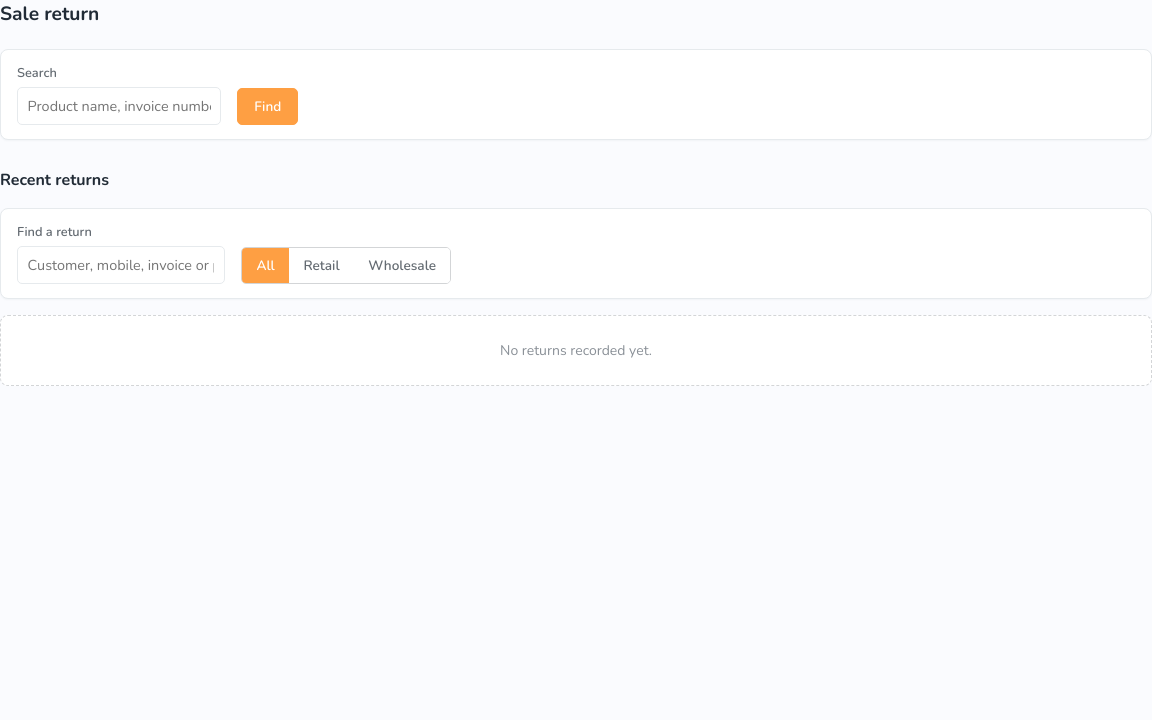
Test case: customer returns › finds a sale by product name and returns it, naming the exact product and new stock
This screenshot has width=1152, height=720.
In the field labelled "Search": (119, 106) 17,87 -> 221,125, type "oppo charger"
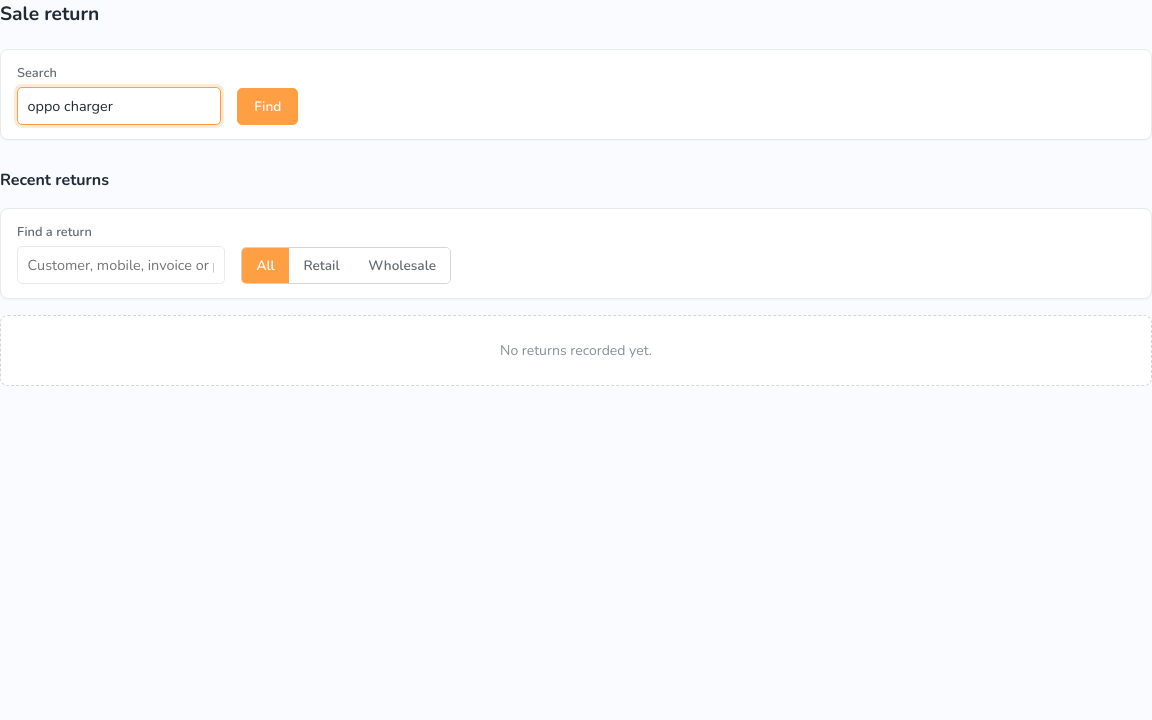
Click the button "Find": (268, 106) 237,88 -> 298,125
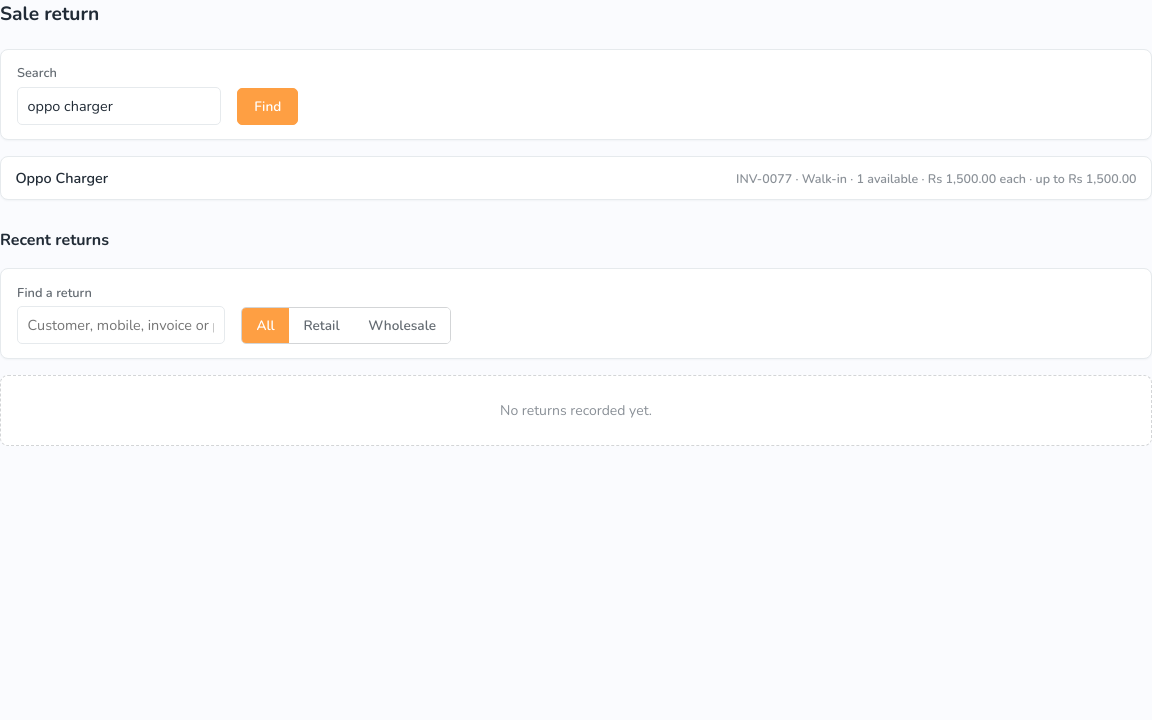
Click the button "Oppo Charger": (62, 178) 1,157 -> 1151,199
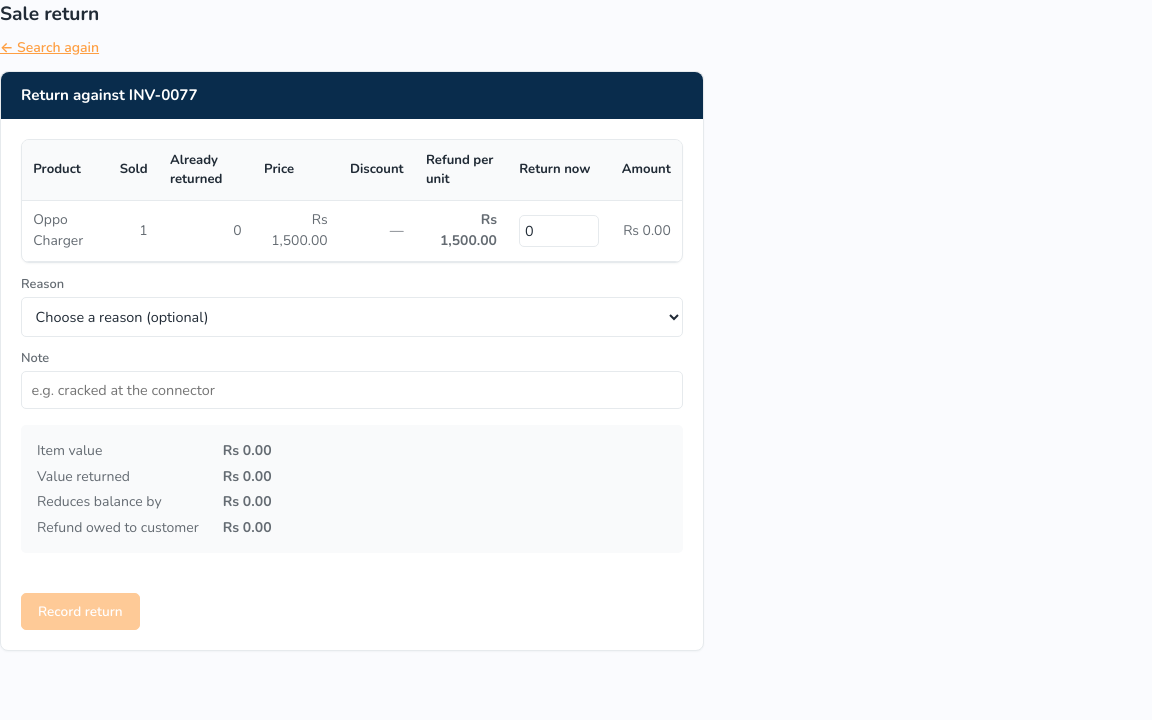
Check: the heading "Return against INV-0077" is shown, box 1,72 -> 703,119
In the number field named "return quantity for oppo charger": (559, 231) 519,215 -> 599,247, type "1"
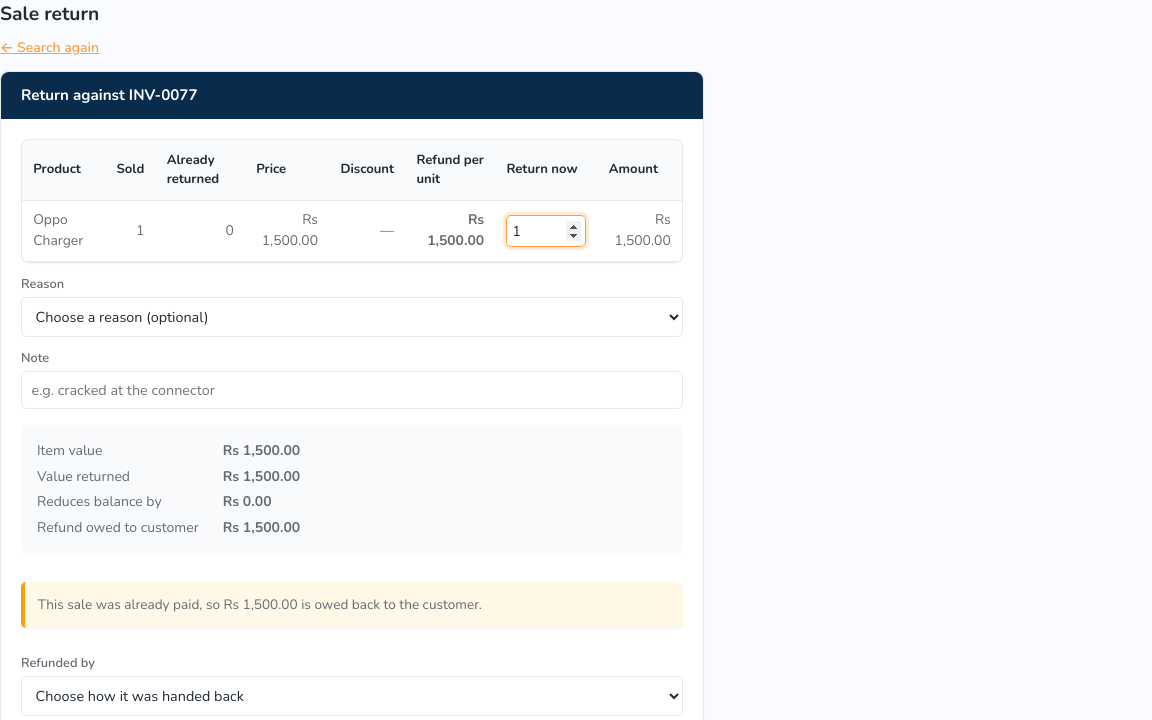
// A paid sale, so the money goes back — and how it went back is asked, never assumed.
Select "Cash (from the till)" in the dropdown labelled "Refunded by": (352, 696) 21,676 -> 683,716
(page scrolled)
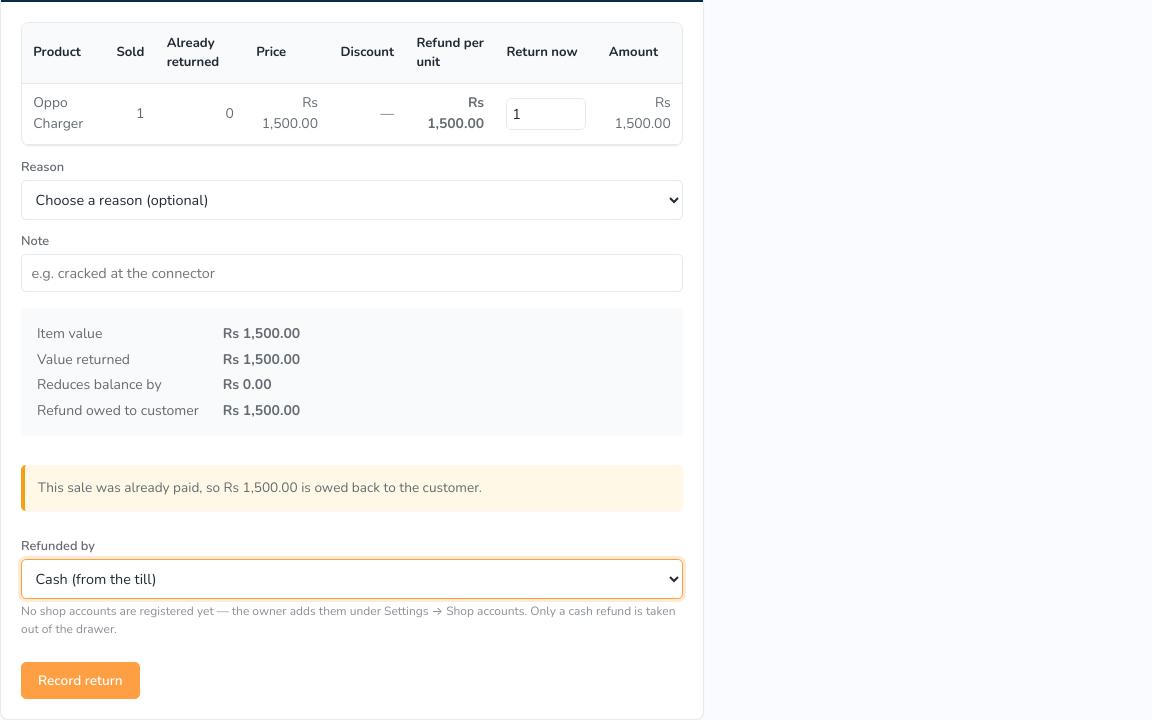
Click the button "Record return": (80, 681) 21,662 -> 140,699
(page scrolled)
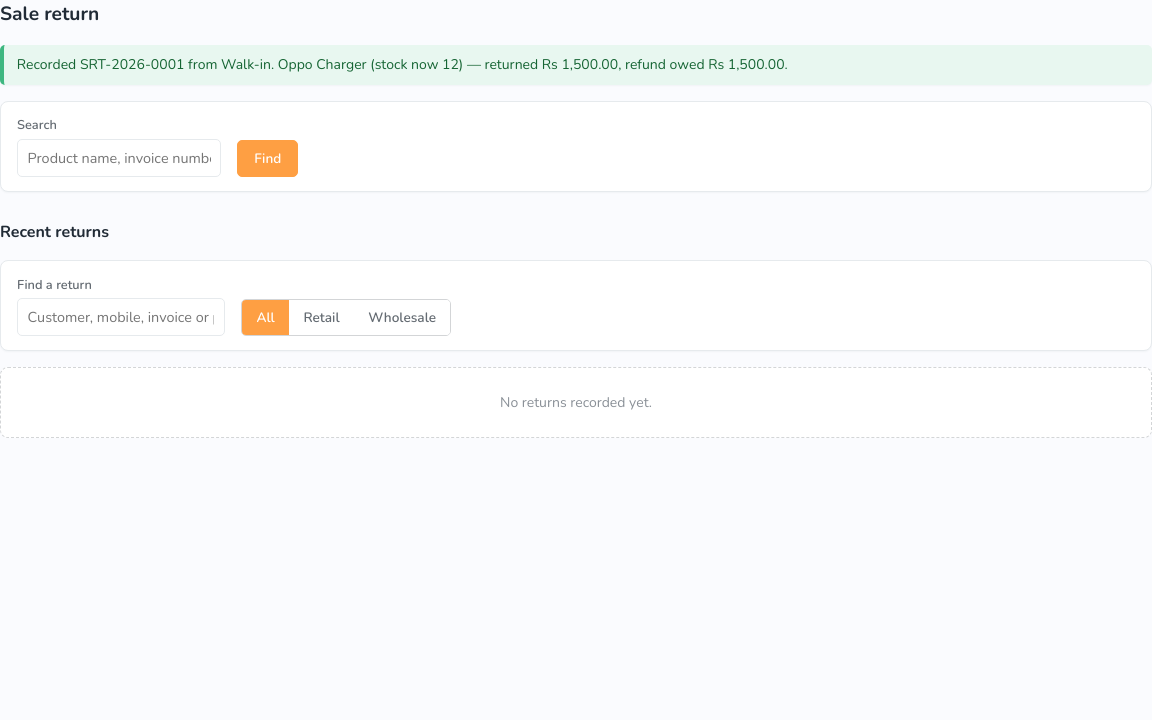
Check: the text "Oppo Charger" is shown, box 17,55 -> 788,74
